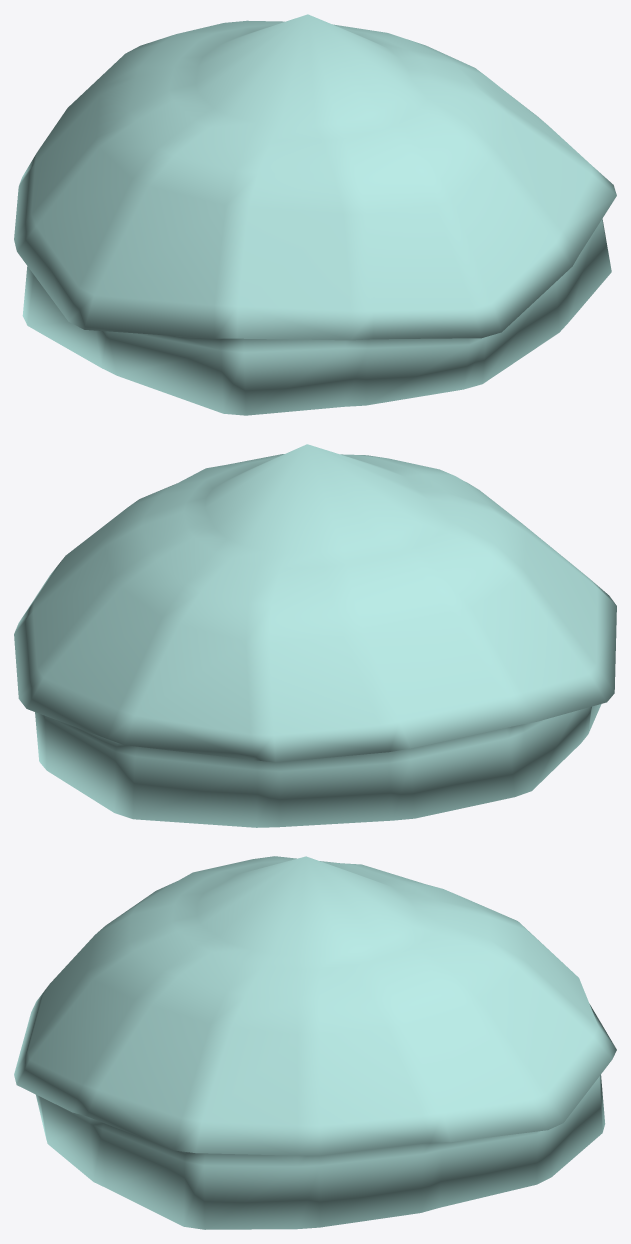
File: crystal_small.fbx
3 renders of one model, top to bottom at view 1: azimuth 30°, elevation 25°; view 2: azimuth 150°, elevation 25°; view 3: azimuth 270°, elevation 25°, orthographic. The views are drawn at different scales.
Parts seen in each view (by area): view 1: crystal_small; view 2: crystal_small; view 3: crystal_small.
Part boxes in pixels (bbox=[...]): crystal_small: bbox=[14, 14, 616, 415]; crystal_small: bbox=[14, 444, 616, 827]; crystal_small: bbox=[14, 856, 616, 1229].
Size of the model in its own units: 0.1255 by 0.0641 by 0.1303.
